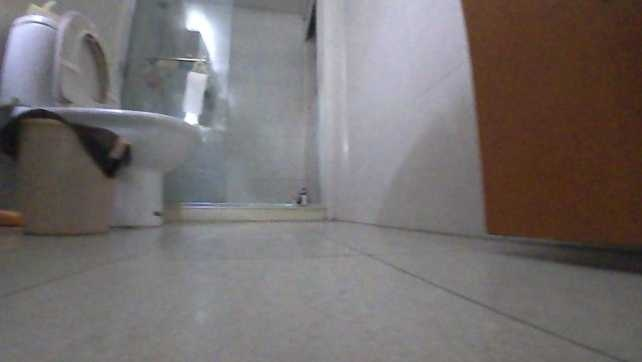toilet: (0, 10, 199, 227)
trash_can: (9, 107, 141, 242)
